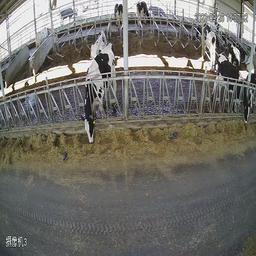cow: (78, 45, 125, 160), (217, 53, 251, 134), (86, 19, 108, 56), (202, 19, 217, 68), (136, 1, 156, 35), (112, 0, 123, 29)
